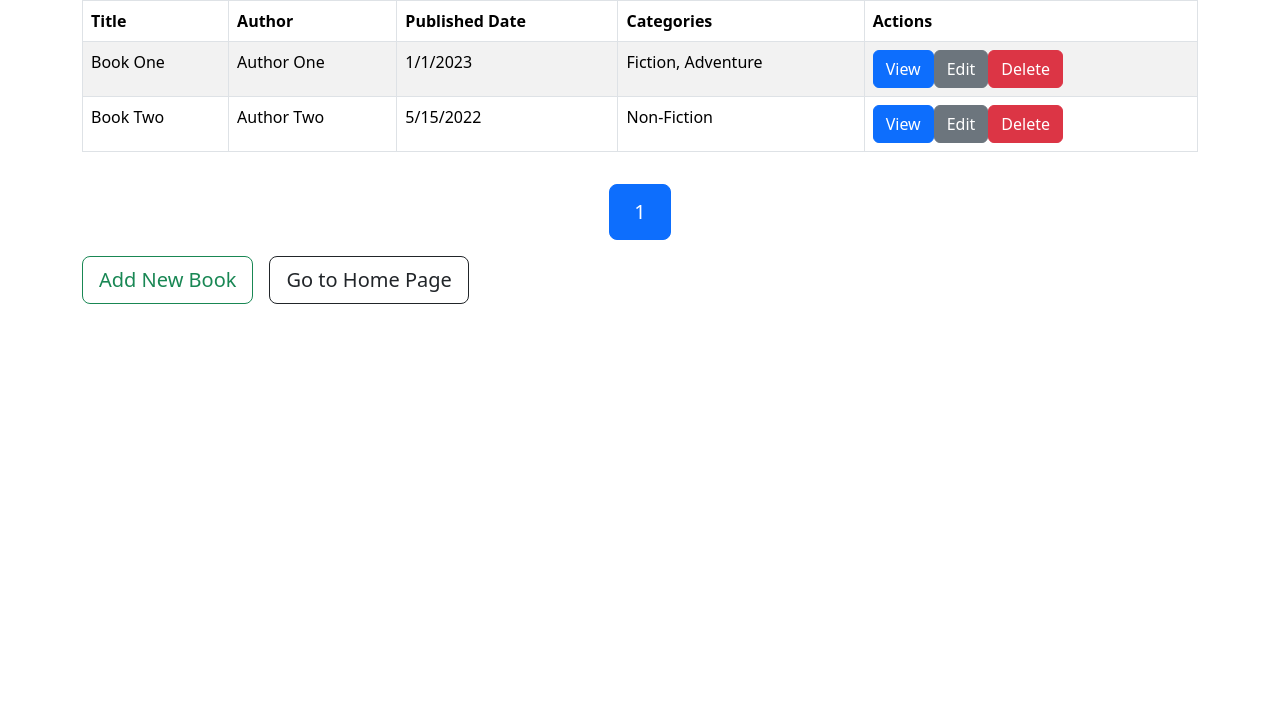
BookList Component › handles error when deleteBook fails
The width and height of the screenshot is (1280, 720).
expect the text "Book One" is shown: met, box [82,42,229,96]
Click the button "Delete" in the row of "Book One" at (1026, 69), box [988,50,1063,88]
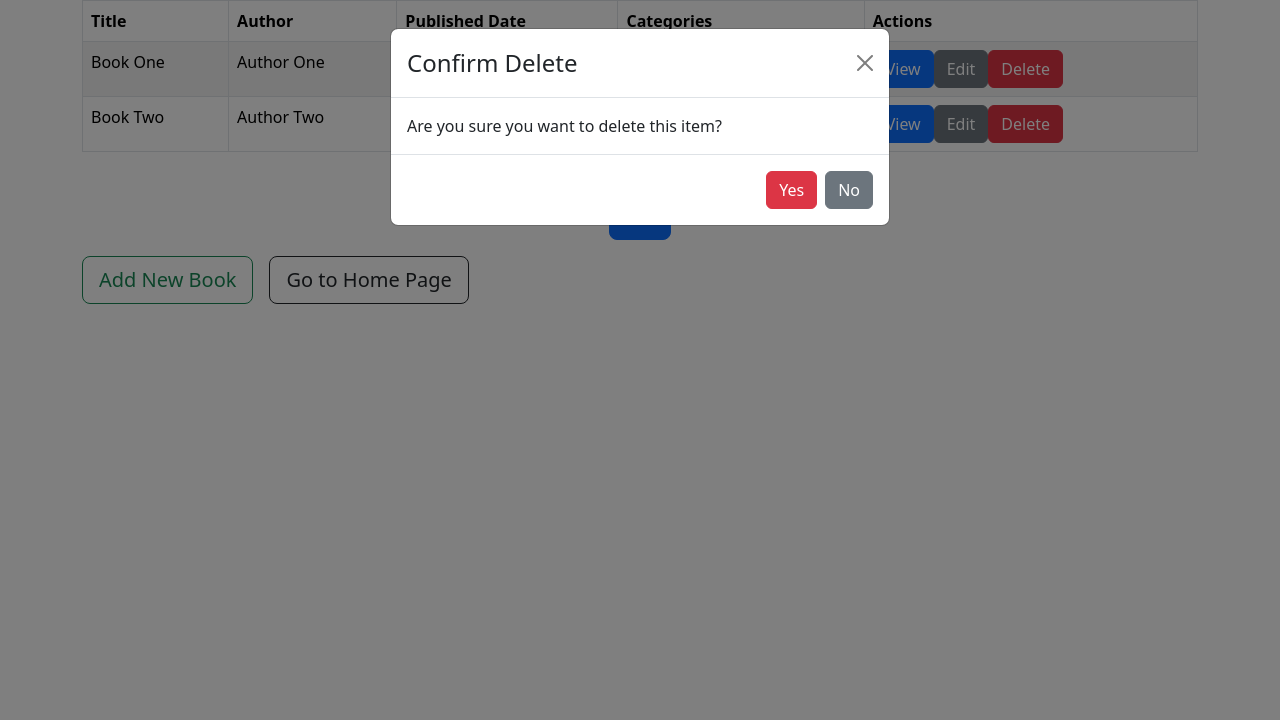
Click the button with aria-label "confirm" at (792, 190), box [766,171,817,209]
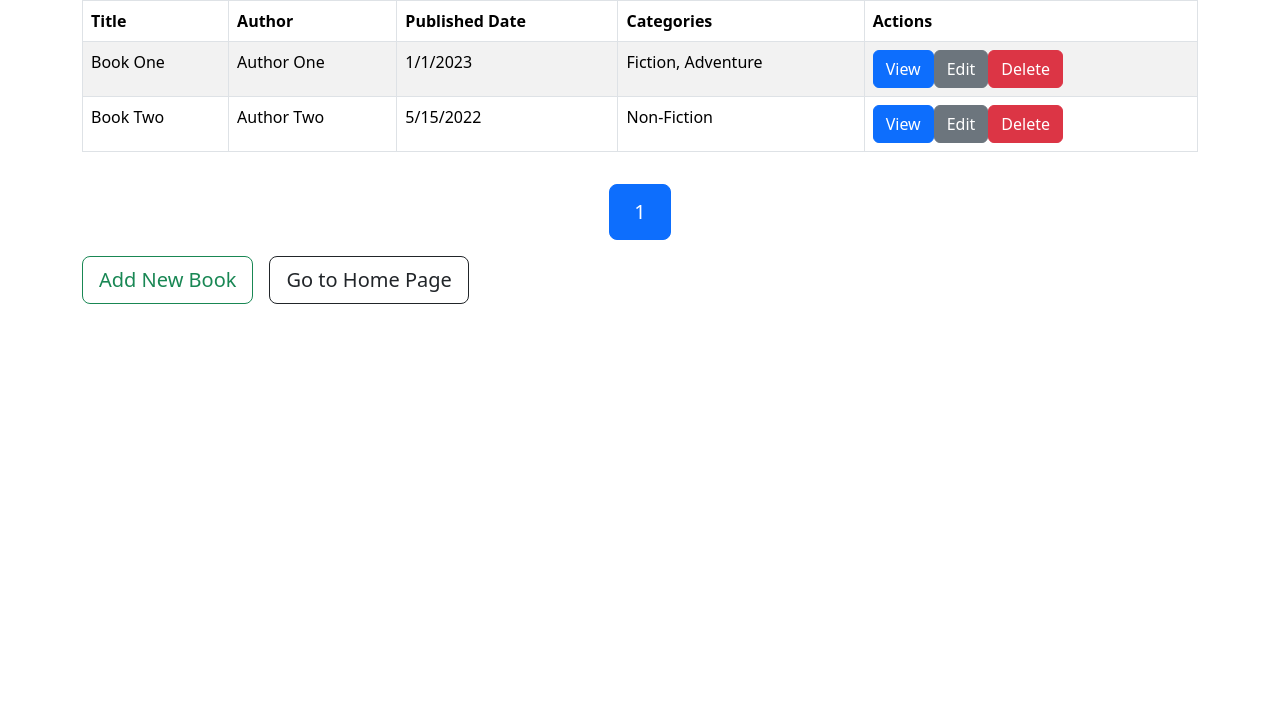
expect the text "Confirm" is gone: met
